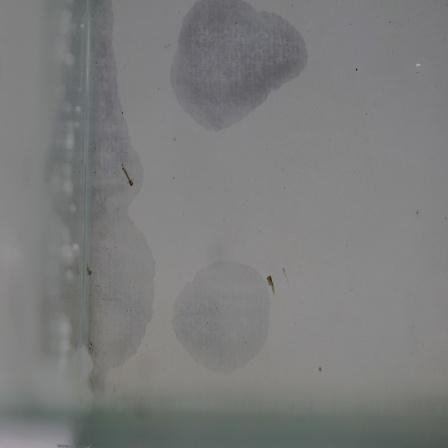Jentik-Nyamuk: (117, 158, 137, 190), (264, 271, 281, 297)
